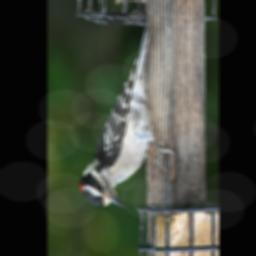Woodpecker: (79, 20, 175, 208)
